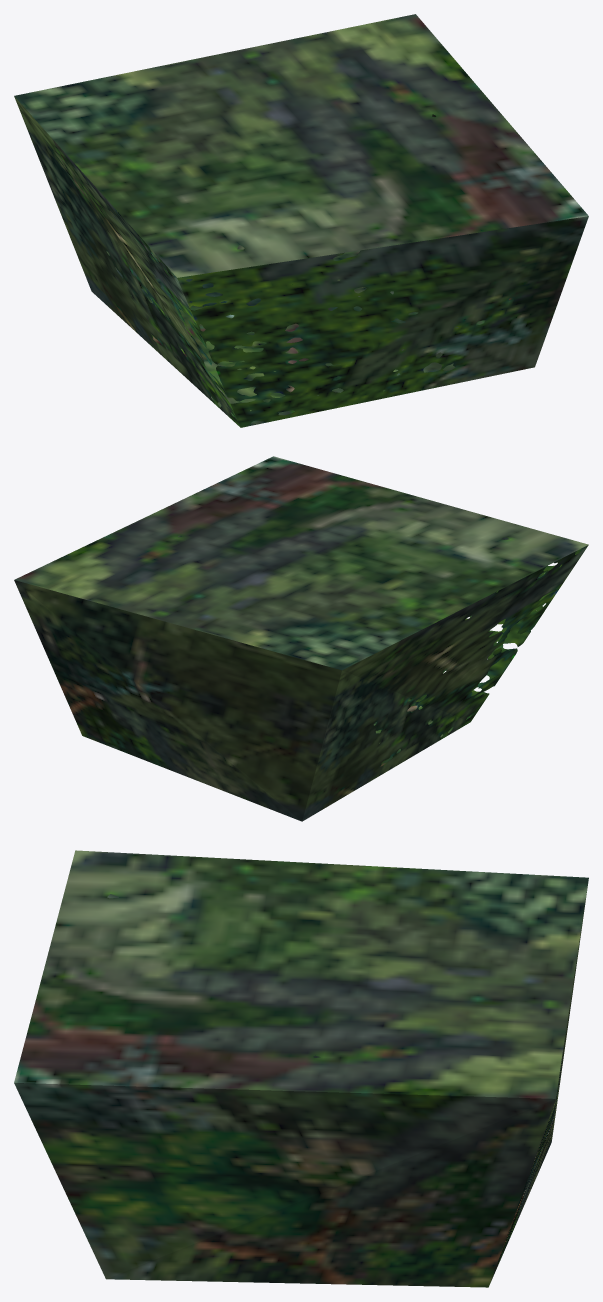
The model's file is BurntTree_5_B_1.gltf.
3 renders of one model, top to bottom at view 1: azimuth 30°, elevation 25°; view 2: azimuth 150°, elevation 25°; view 3: azimuth 270°, elevation 25°, orthographic. The views are drawn at different scales.
Visible parts, largest first — view 1: BurntTree_5_B_1; view 2: BurntTree_5_B_1; view 3: BurntTree_5_B_1.
Boxes of the visible parts, left/top/right/bottom form: BurntTree_5_B_1: left=14, top=14, right=588, bottom=427; BurntTree_5_B_1: left=14, top=456, right=588, bottom=821; BurntTree_5_B_1: left=14, top=850, right=588, bottom=1287.
Bounding box in the file's own units: 0.9187 × 0.4038 × 0.8862.
1 material, 1 textured.
